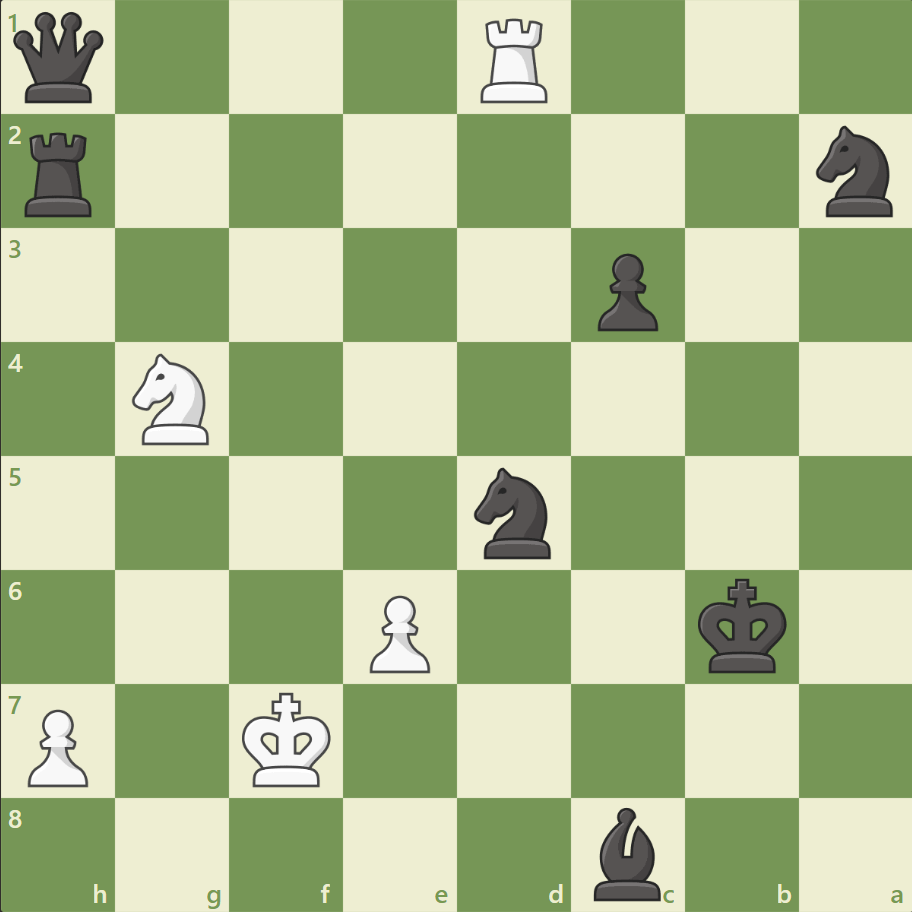K: (238, 685, 338, 793)
N: (124, 348, 222, 450)
P: (20, 700, 95, 791), (361, 586, 435, 677)
R: (473, 12, 556, 109)
b: (585, 801, 669, 904)
k: (692, 571, 792, 679)
n: (465, 461, 562, 564), (806, 121, 903, 223)
p: (588, 246, 662, 337)
q: (10, 9, 109, 108)
r: (19, 125, 102, 222)
